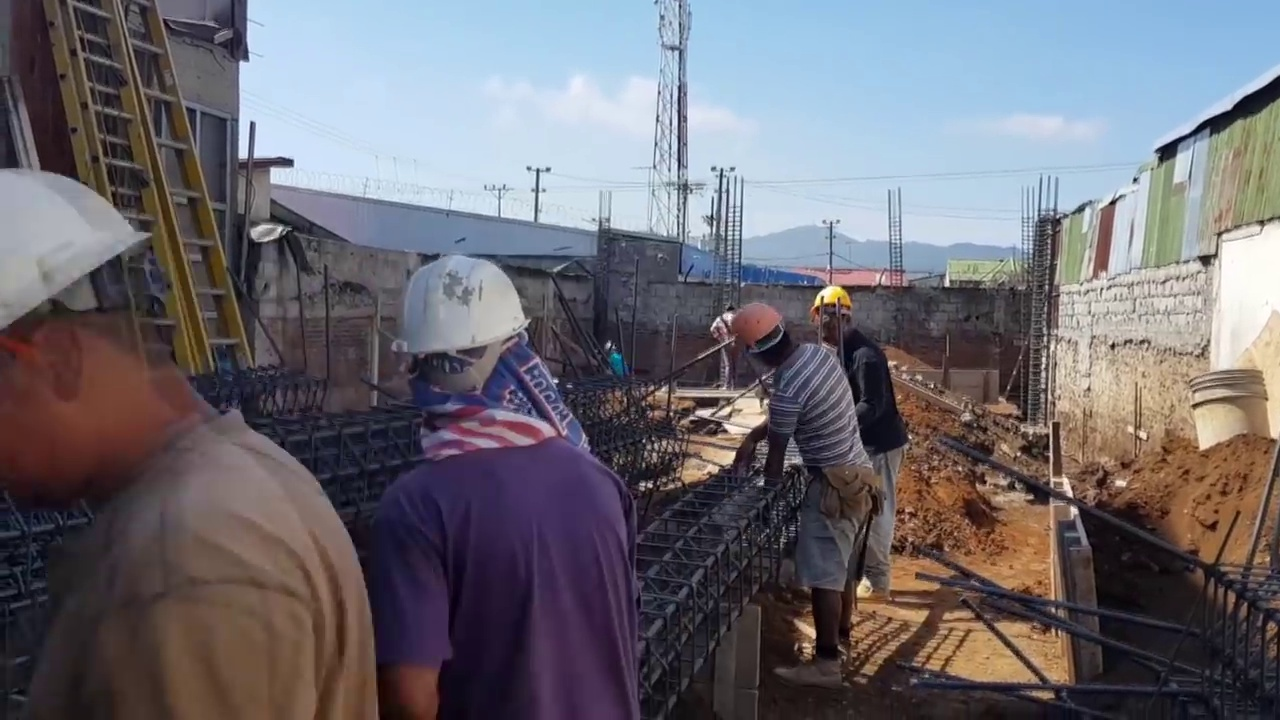helmet: (10, 173, 141, 340), (390, 251, 522, 360), (730, 304, 783, 352), (809, 287, 856, 322)
helmet-off: (725, 300, 735, 314)
helmet-on: (6, 179, 236, 514), (390, 252, 542, 452), (718, 303, 797, 365), (810, 285, 860, 344)
person: (0, 176, 385, 716), (364, 237, 652, 720), (683, 272, 878, 676), (804, 285, 904, 602), (710, 303, 737, 392)
